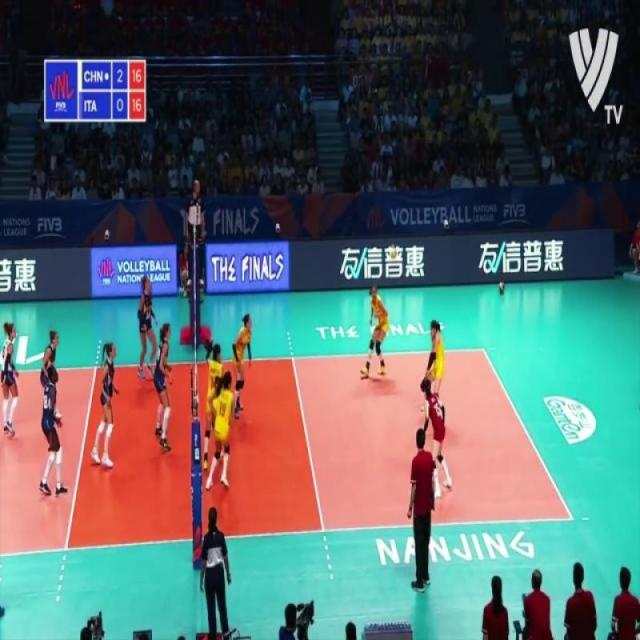volleyball: (391, 244, 398, 263)
